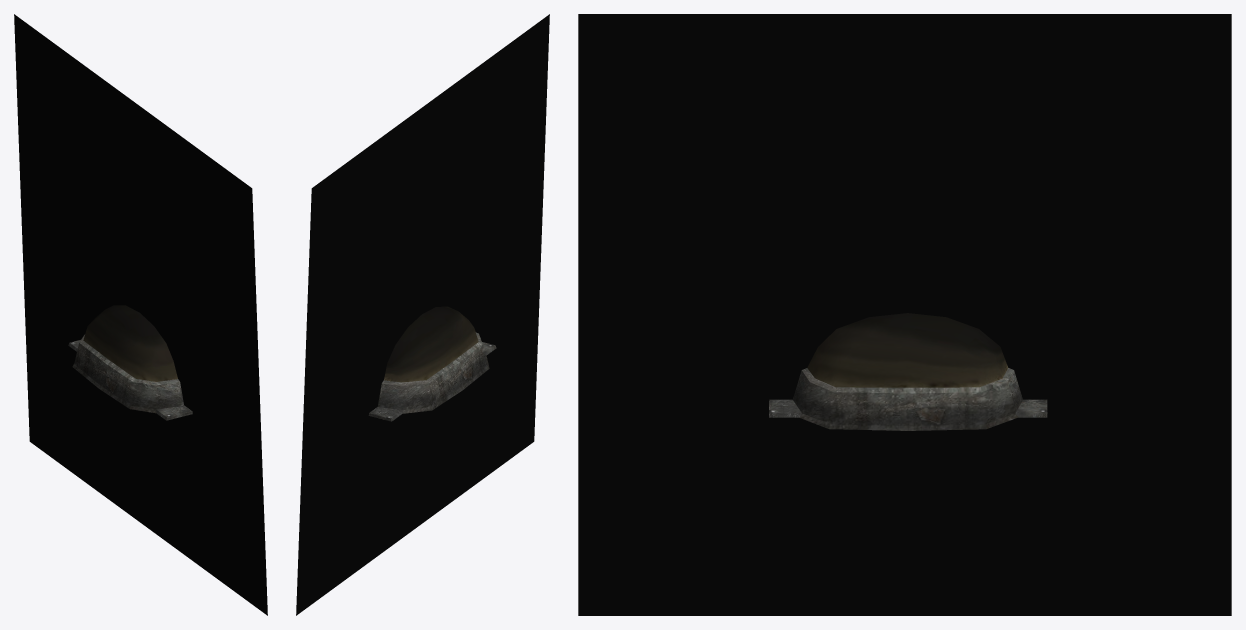
File: lamp_wall_light01.dae
3 renders of one model, left to right at view 1: azimuth 30°, elevation 25°; view 2: azimuth 150°, elevation 25°; view 3: azimuth 270°, elevation 25°, orthographic. The views are drawn at different scales.
Visible parts, largest first — view 1: _bb_light_blue_halo_halo01, lamp; view 2: _bb_light_blue_halo_halo01, lamp; view 3: _bb_light_blue_halo_halo01, lamp.
Part boxes in pixels (x1=…): _bb_light_blue_halo_halo01: x1=14, y1=14, x2=267, y2=615; lamp: x1=68, y1=305, x2=192, y2=420; _bb_light_blue_halo_halo01: x1=296, y1=14, x2=549, y2=615; lamp: x1=368, y1=306, x2=496, y2=421; _bb_light_blue_halo_halo01: x1=578, y1=14, x2=1231, y2=615; lamp: x1=769, y1=313, x2=1047, y2=430.
Size of what is drawn, in the model's own units: 0.2037 by 1.03 by 1.03.
